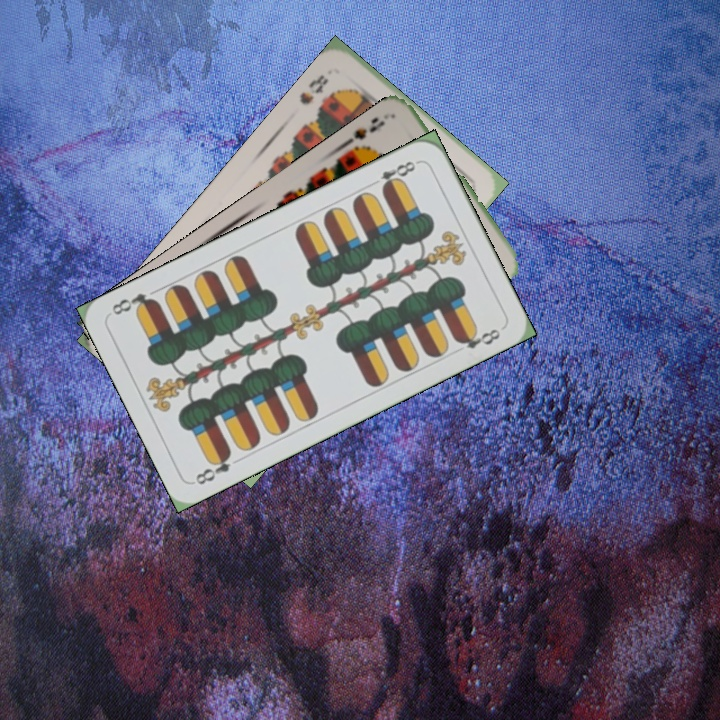E8: (366, 157, 422, 194), (191, 447, 234, 488)
S8: (295, 70, 332, 108)
S9: (337, 113, 388, 159)
